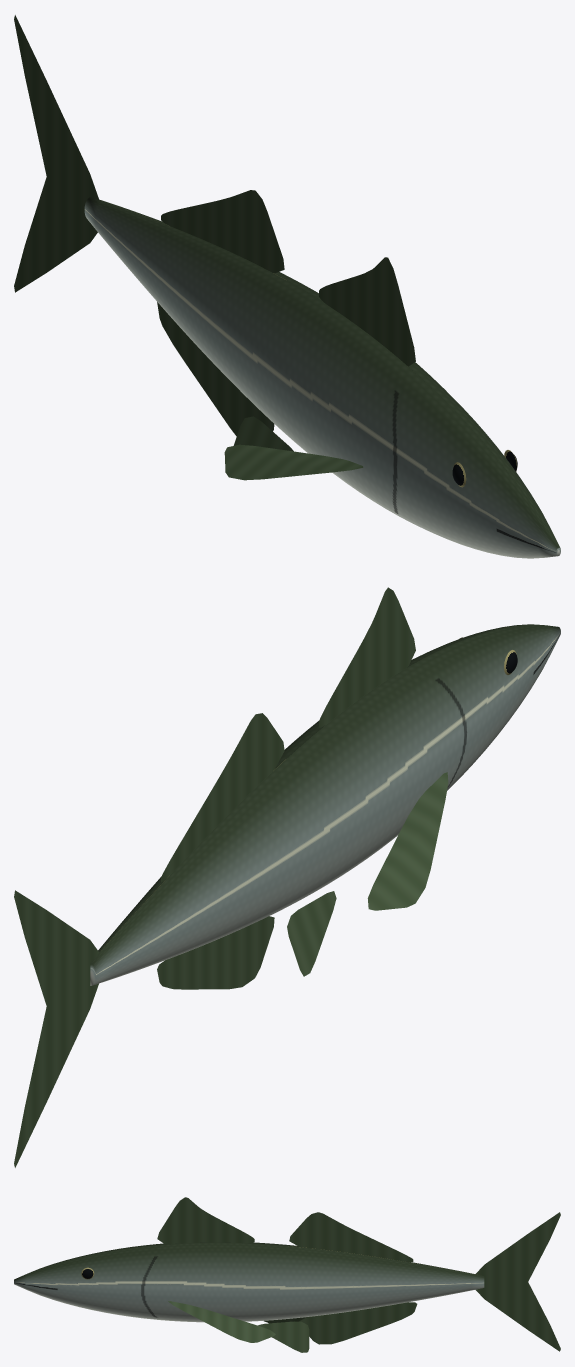
Rendered from saithe.glb.
3 renders of one model, top to bottom at view 1: azimuth 30°, elevation 25°; view 2: azimuth 150°, elevation 25°; view 3: azimuth 270°, elevation 25°, orthographic. The views are drawn at different scales.
Visible parts, largest first — view 1: saithe_lod0; view 2: saithe_lod0; view 3: saithe_lod0.
Boxes of the visible parts, <box> form: saithe_lod0: <box>14,15,560,558</box>; saithe_lod0: <box>14,587,560,1167</box>; saithe_lod0: <box>14,1197,560,1352</box>.
Size of what is drawn, in the model's own units: 0.089 by 0.1405 by 0.45.
1 material, 1 textured.
